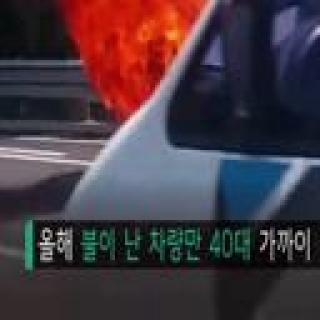fire: (7, 0, 235, 96)
